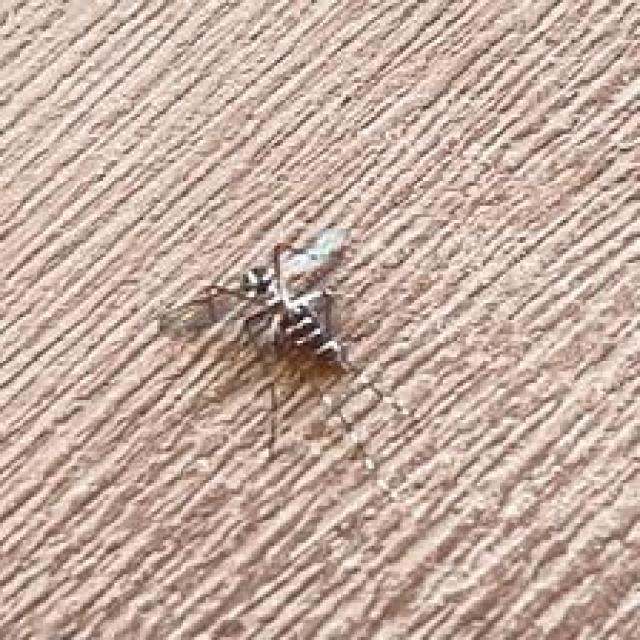Aedes albopictus: (156, 220, 404, 474)
